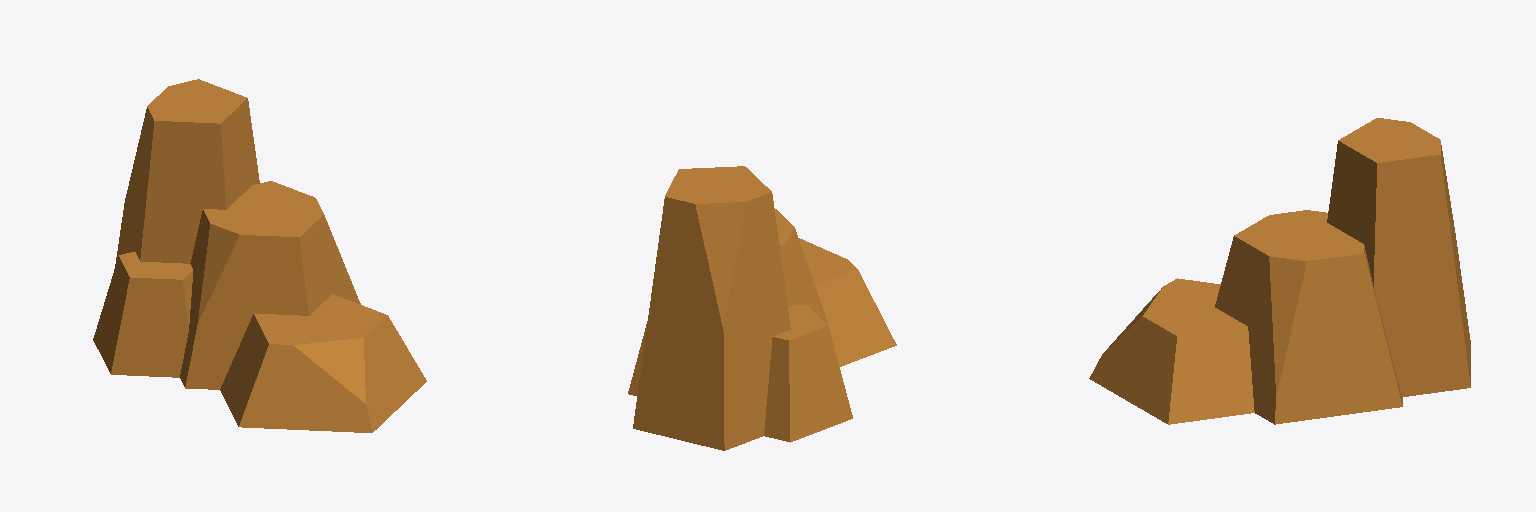
File: rockC8.obj
3 views of the same model, side by side, from view 1: azimuth 30°, elevation 25°; view 2: azimuth 150°, elevation 25°; view 3: azimuth 270°, elevation 25° (orthographic).
Parts seen in each view (by area): view 1: rockC2; view 2: rockC2; view 3: rockC2.
Part boxes in pixels (x1,y1,x2,y2): rockC2: (93, 79, 426, 432); rockC2: (628, 166, 896, 450); rockC2: (1089, 118, 1470, 424).
Size of the model in its own units: 2.19 by 2.04 by 3.13.